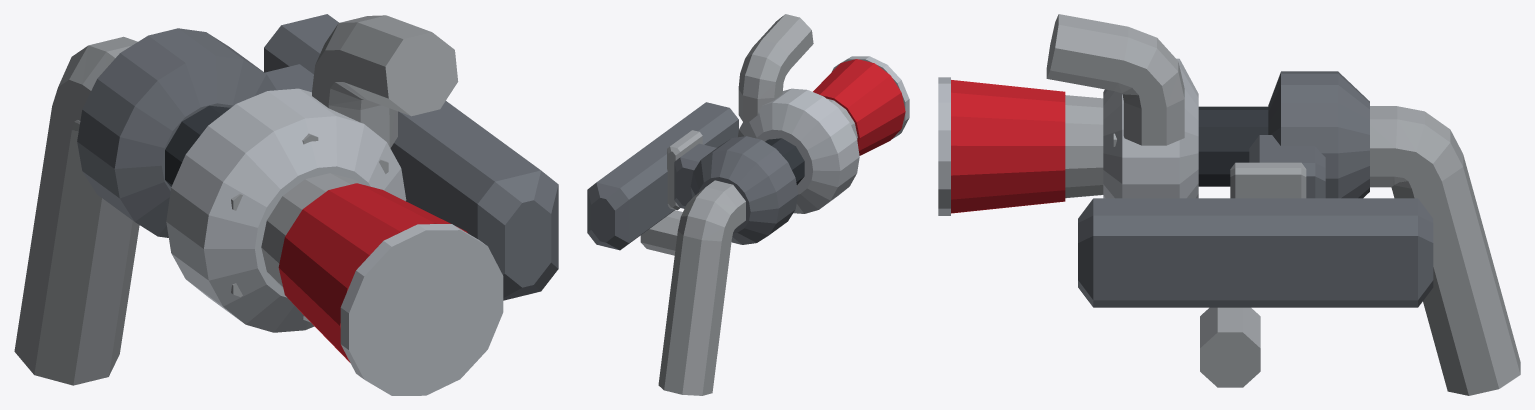
File: turbo_kit.glb
The picture shows the model from 3 angles, left to right: view 1: azimuth 30°, elevation 25°; view 2: azimuth 150°, elevation 25°; view 3: azimuth 270°, elevation 25°; orthographic projection. The views are drawn at different scales.
Visible parts, largest first — view 1: model; view 2: model; view 3: model.
Part boxes in pixels (left/top/right/bottom): model: left=14, top=14, right=558, bottom=395; model: left=587, top=14, right=909, bottom=395; model: left=938, top=14, right=1520, bottom=395.
Bounding box in the file's own units: 0.232 × 0.3407 × 0.4587.
2 materials, 1 textured.
